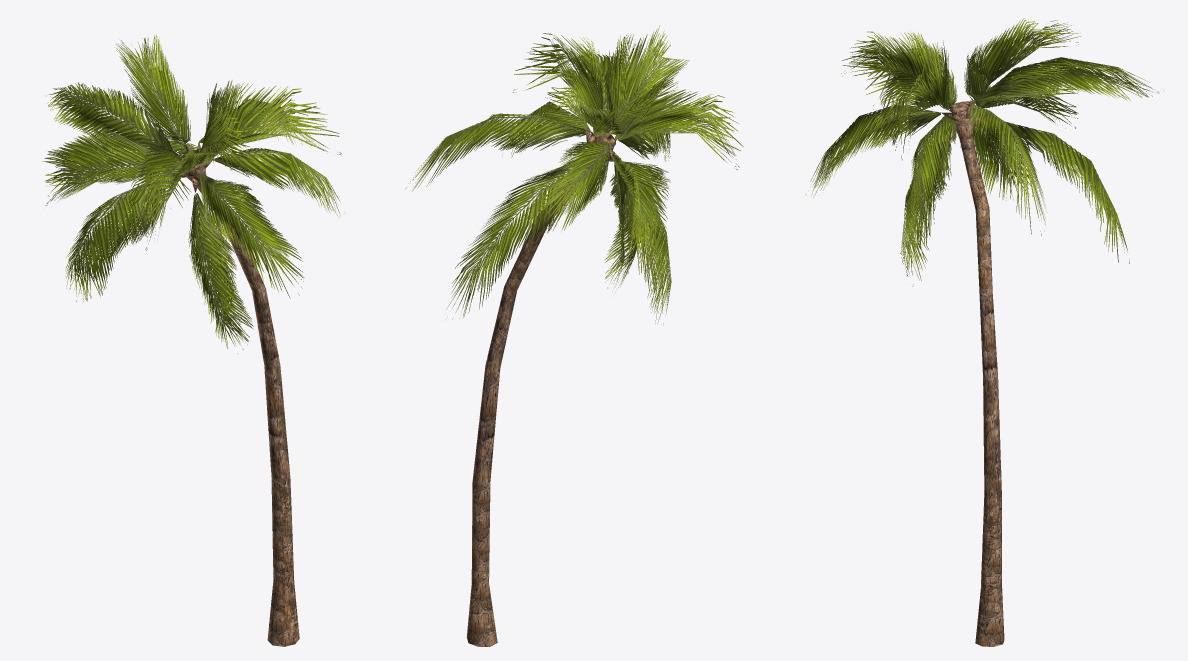
The model's file is Palm02.FBX.
3 views of the same model, side by side, from view 1: azimuth 30°, elevation 25°; view 2: azimuth 150°, elevation 25°; view 3: azimuth 270°, elevation 25° (orthographic). The views are drawn at different scales.
Visible parts, largest first — view 1: Palm; view 2: Palm; view 3: Palm.
Boxes of the visible parts, bbox=[...] form: Palm: bbox=[42, 35, 345, 646]; Palm: bbox=[405, 25, 743, 646]; Palm: bbox=[805, 18, 1158, 646].
Bounding box in the file's own units: 7.27 × 14.28 × 8.32.
